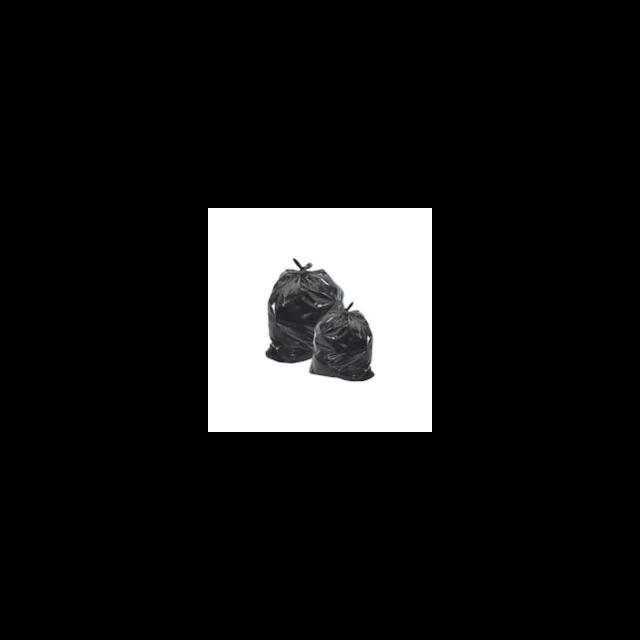plastic: (260, 252, 344, 362), (308, 298, 375, 387)
